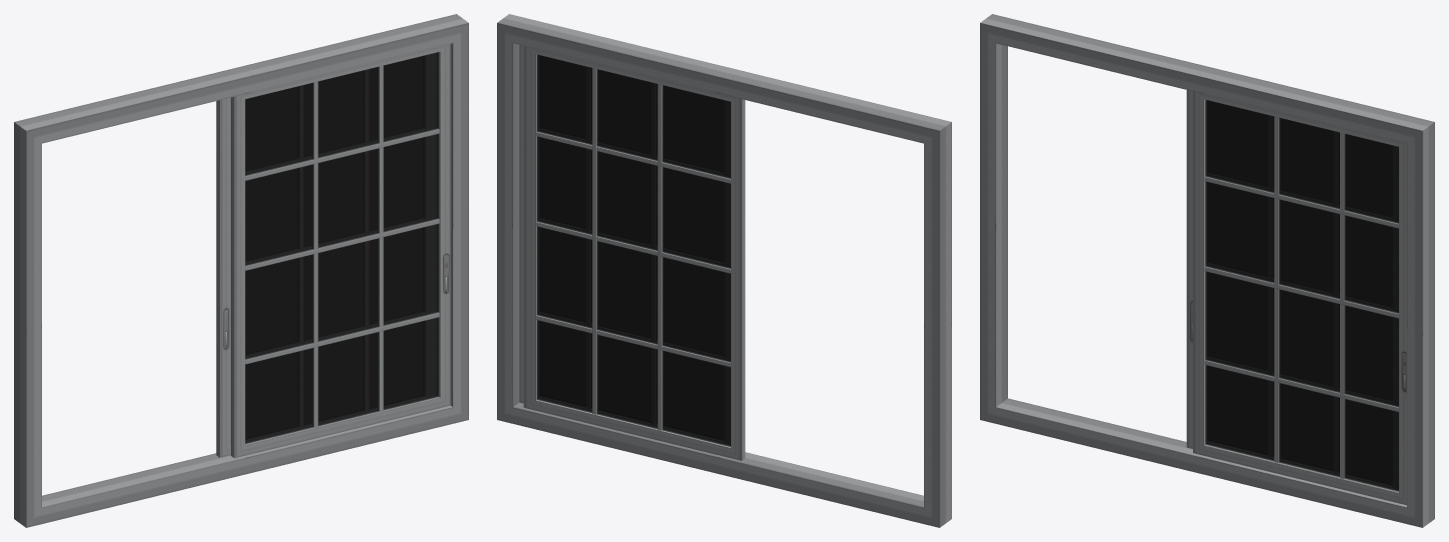
File: window_2_open.FBX
3 renders of one model, left to right at view 1: azimuth 30°, elevation 25°; view 2: azimuth 150°, elevation 25°; view 3: azimuth 330°, elevation 25°, orthographic.
Visible parts, largest first — view 1: Box004, window_2_0pen, Box002, Box016, Box006, Box007, Box011, Box009, Box008, Box005, Box015; view 2: Box014, window_2_0pen, Box016, Box002, Box015, Box011, Box007, Box006, Box010, Box012, Box013; view 3: Box004, window_2_0pen, Box002, Box016, Box006, Box007, Box011, Box008, Box009, Box005, Box015.
Part boxes in pixels (bbox=[...]): Box004: bbox=[245, 52, 438, 443]; window_2_0pen: bbox=[14, 14, 468, 527]; Box002: bbox=[231, 44, 450, 458]; Box016: bbox=[216, 53, 436, 457]; Box006: bbox=[313, 81, 318, 427]; Box007: bbox=[378, 65, 383, 411]; Box011: bbox=[365, 70, 368, 410]; Box009: bbox=[245, 218, 439, 270]; Box008: bbox=[245, 128, 439, 180]; Box005: bbox=[245, 312, 439, 364]; Box015: bbox=[300, 86, 302, 426]; Box014: bbox=[537, 54, 730, 446]; window_2_0pen: bbox=[497, 14, 951, 527]; Box016: bbox=[523, 46, 745, 460]; Box002: bbox=[519, 45, 730, 443]; Box015: bbox=[657, 84, 662, 430]; Box011: bbox=[592, 68, 597, 414]; Box007: bbox=[586, 67, 589, 408]; Box006: bbox=[652, 83, 655, 424]; Box010: bbox=[536, 315, 730, 367]; Box012: bbox=[536, 131, 730, 183]; Box013: bbox=[536, 221, 730, 273]; Box004: bbox=[1205, 100, 1398, 491]; window_2_0pen: bbox=[980, 14, 1434, 527]; Box002: bbox=[1193, 91, 1406, 505]; Box016: bbox=[1186, 90, 1398, 488]; Box006: bbox=[1274, 116, 1279, 462]; Box007: bbox=[1340, 132, 1345, 478]; Box011: bbox=[1334, 132, 1337, 472]; Box008: bbox=[1204, 176, 1398, 228]; Box009: bbox=[1204, 266, 1398, 318]; Box005: bbox=[1204, 359, 1398, 411]; Box015: bbox=[1269, 116, 1271, 456].
Size of the model in its own units: 21 by 18 by 1.
